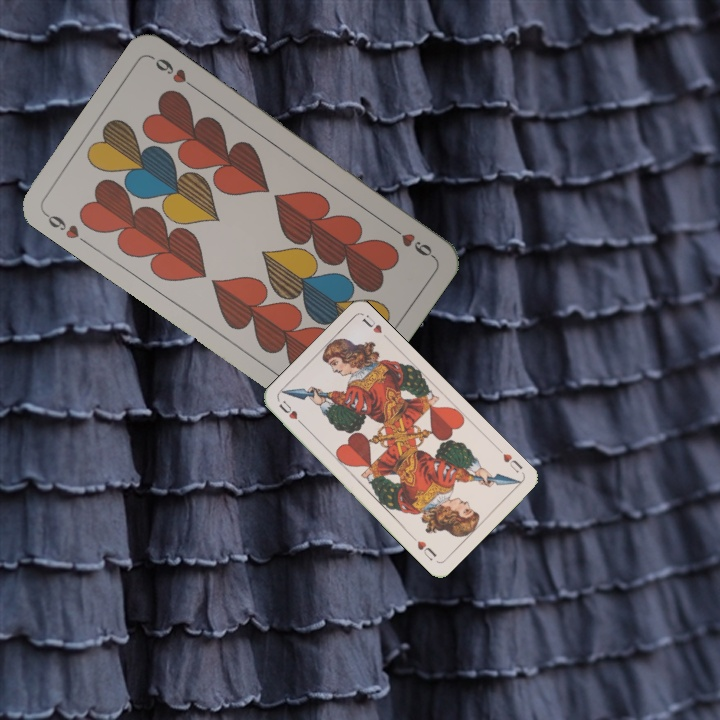H9: (385, 221, 437, 260), (40, 209, 92, 248)
HU: (275, 397, 307, 429), (499, 450, 525, 476)
